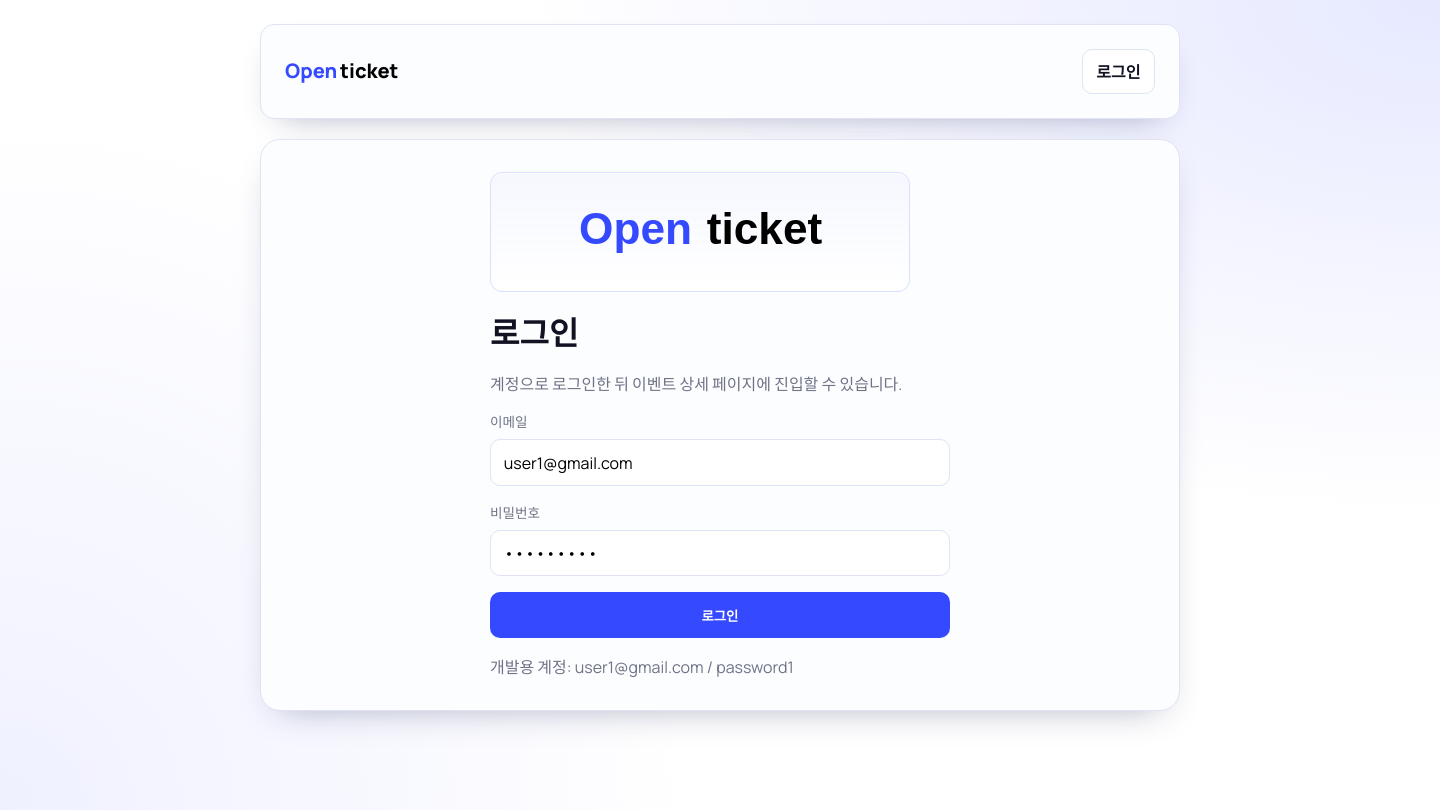
Login flow and route guard › shows inline error when login fails
The width and height of the screenshot is (1440, 810).
Click the button "로그인" at point(720, 615), box [490,592,950,638]
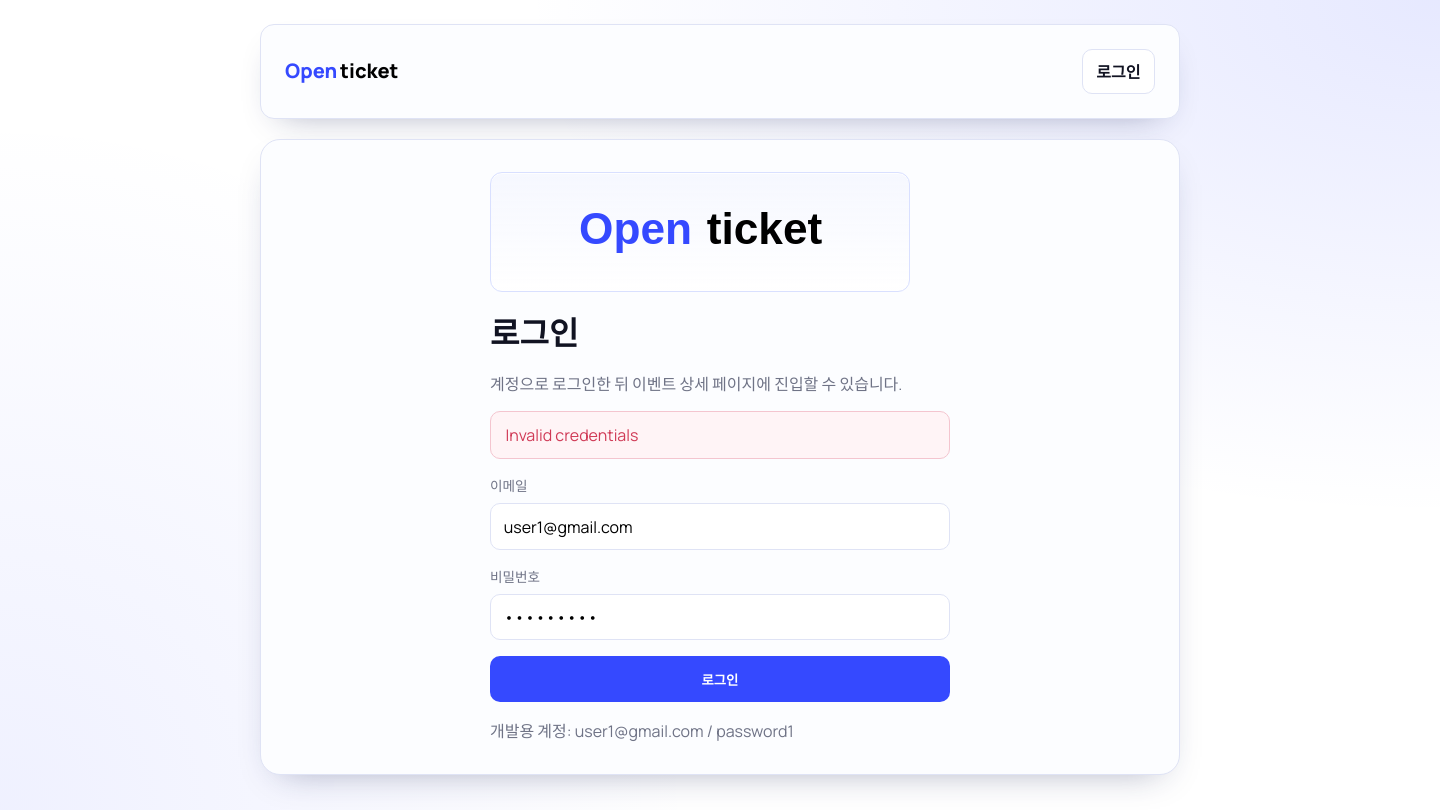
expect the text "Invalid credentials" is shown: met, box [490,411,950,459]
